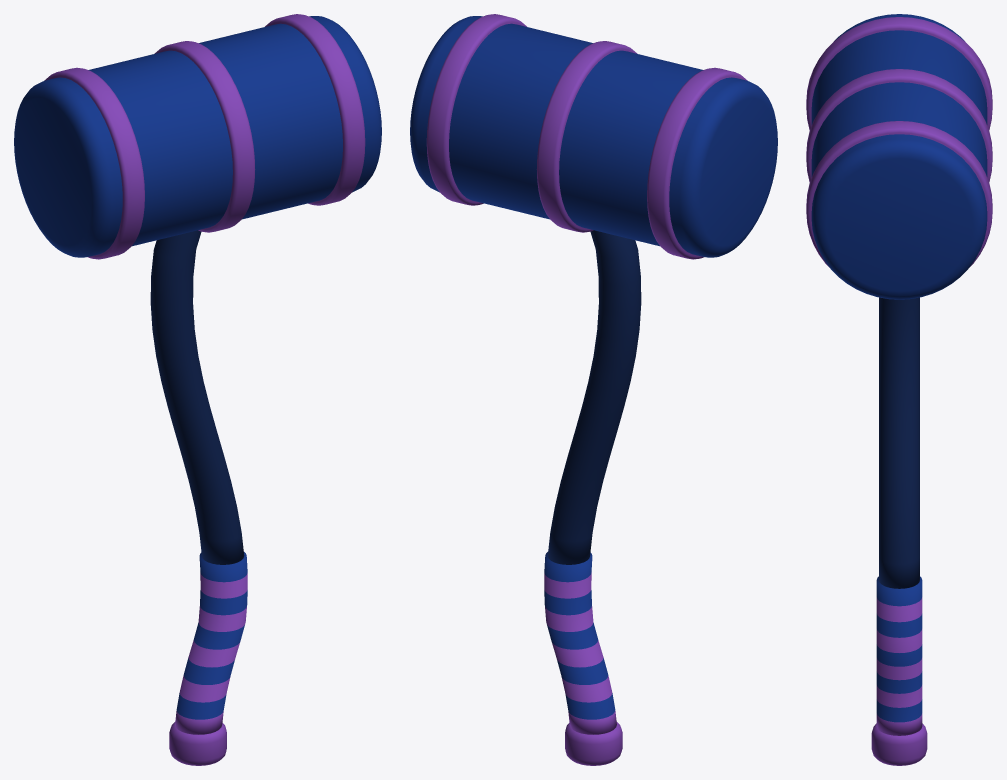
Rendered from hammer_hebidaru.fbx.
3 views of the same model, side by side, from view 1: azimuth 30°, elevation 25°; view 2: azimuth 150°, elevation 25°; view 3: azimuth 270°, elevation 25° (orthographic). The views are drawn at different scales.
Parts seen in each view (by area): view 1: hebidaru_hammer; view 2: hebidaru_hammer; view 3: hebidaru_hammer.
Boxes of the visible parts, box(x1,y1,x2,y2) form: hebidaru_hammer: box(14, 14, 381, 765); hebidaru_hammer: box(410, 14, 777, 765); hebidaru_hammer: box(806, 14, 992, 765).
Bounding box in the file's own units: 1.1 × 2.58 × 0.636.
